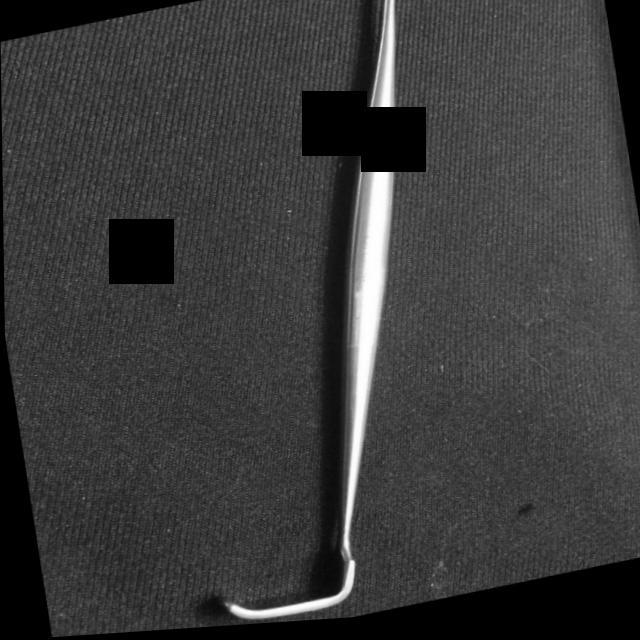Senn Retractor: (107, 0, 552, 634)
